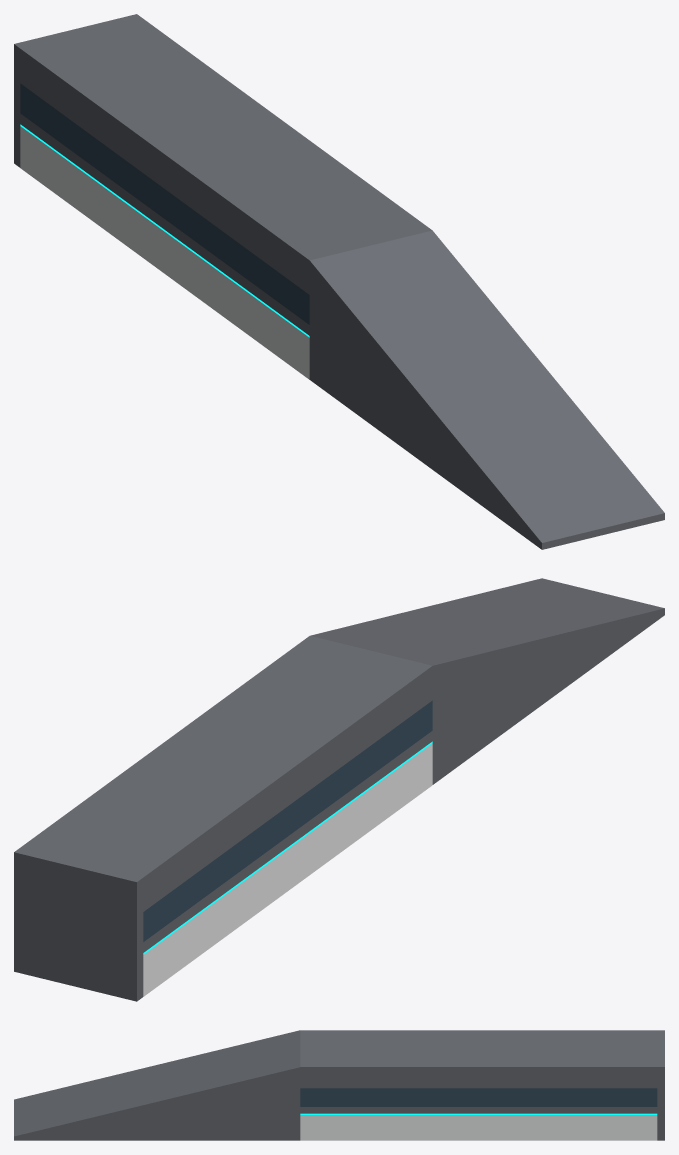
Rendered from 1_far.fbx.
The picture shows the model from 3 angles, top to bottom: view 1: azimuth 30°, elevation 25°; view 2: azimuth 150°, elevation 25°; view 3: azimuth 270°, elevation 25°; orthographic projection. The views are drawn at different scales.
Parts seen in each view (by area): view 1: 23_1_far; view 2: 23_1_far; view 3: 23_1_far.
Part boxes in pixels (x1,y1,x2,y2): 23_1_far: (14, 14, 664, 549); 23_1_far: (14, 578, 664, 1001); 23_1_far: (14, 1030, 664, 1140).
Bounding box in the file's own units: 3.37 × 3.12 × 25.
